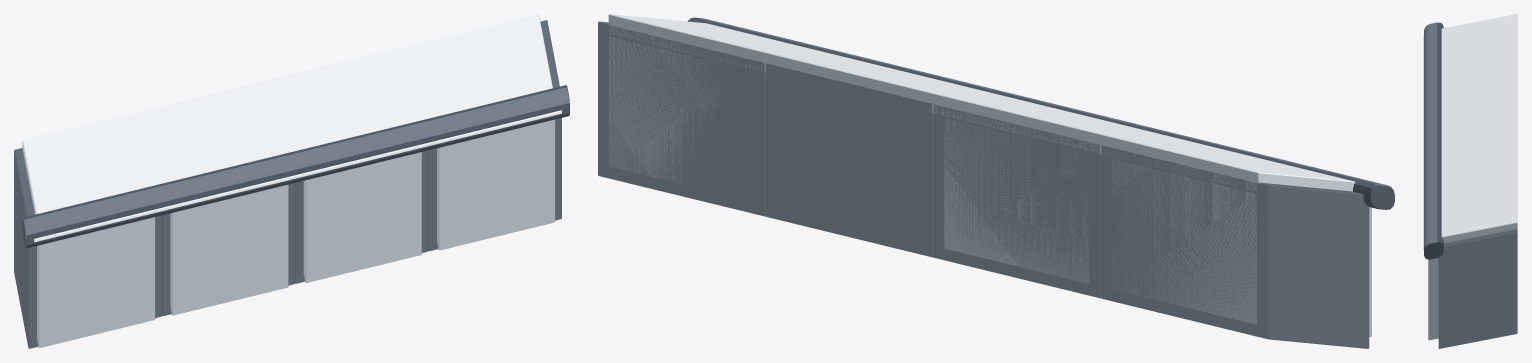
Rendered from Terrain_TopRun4LR.gltf.
The picture shows the model from 3 angles, left to right: view 1: azimuth 30°, elevation 25°; view 2: azimuth 150°, elevation 25°; view 3: azimuth 270°, elevation 25°; orthographic projection. The views are drawn at different scales.
Visible parts, largest first — view 1: Terrain_TopRun4LR_baked; view 2: Terrain_TopRun4LR_baked; view 3: Terrain_TopRun4LR_baked.
Boxes of the visible parts, x1,y1,x2,y2 form: Terrain_TopRun4LR_baked: (14, 14, 569, 348); Terrain_TopRun4LR_baked: (598, 14, 1394, 348); Terrain_TopRun4LR_baked: (1423, 14, 1517, 348).
Bounding box in the file's own units: 4.33 × 1.18 × 0.74.
